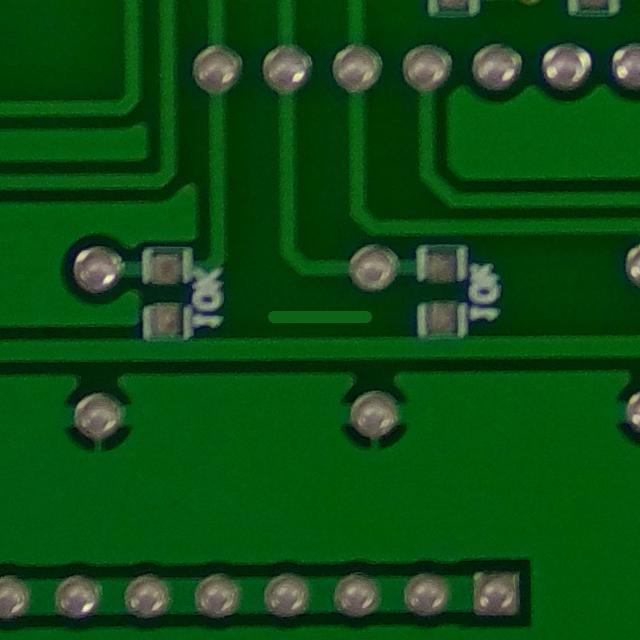spurious_copper: (256, 296, 383, 344)
